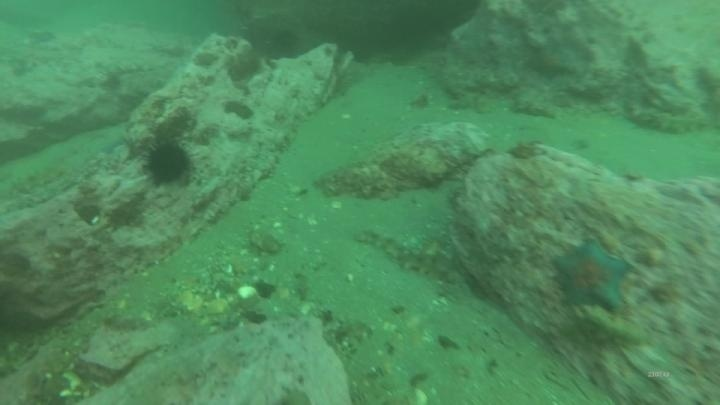echinus: (141, 138, 194, 189)
holothurian: (357, 223, 453, 283), (569, 303, 649, 351), (620, 100, 713, 139), (1, 159, 76, 198)
starfish: (550, 237, 634, 315), (525, 42, 575, 82), (90, 134, 129, 156)
